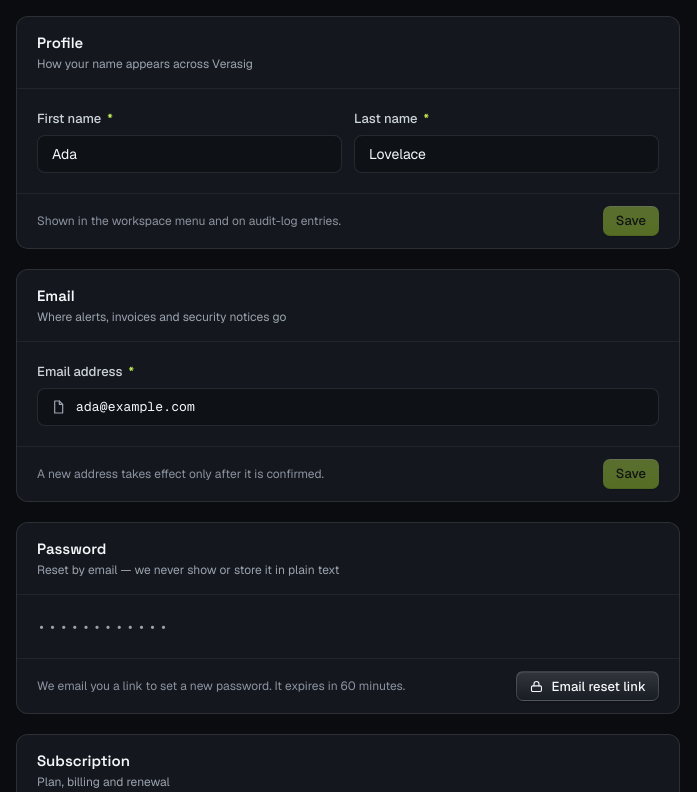
SettingsView › emails a password reset link to the account address
Click the button "Email reset link" at (587, 686), box [516,671,659,701]
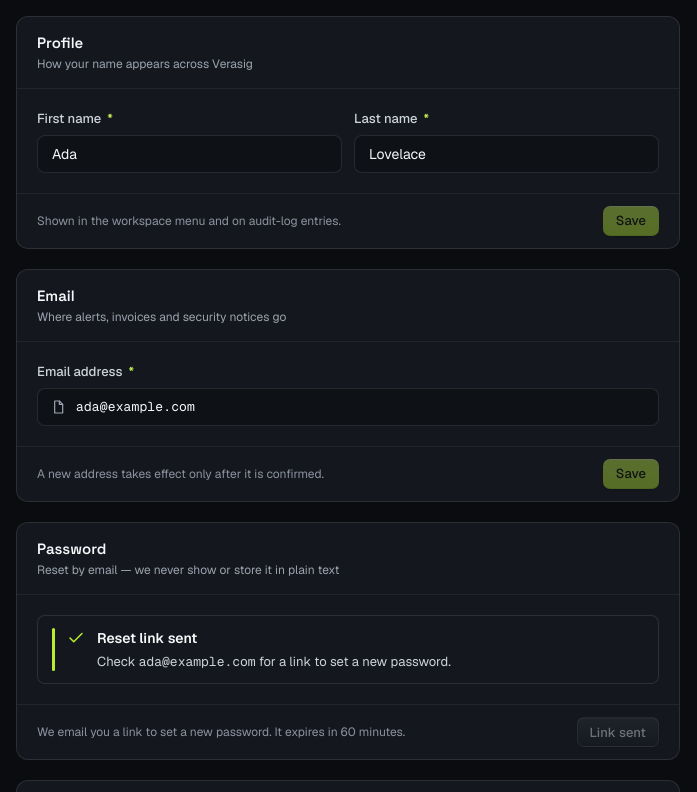
Check: the text "Reset link sent" is shown, box [97,629,197,647]
